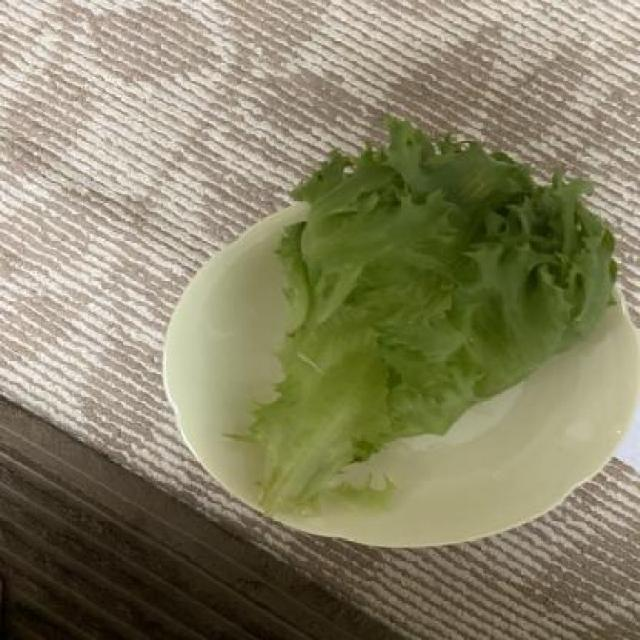Lettuce head: (221, 118, 624, 523)
